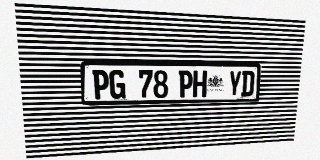7: (138, 70, 153, 99)
8: (153, 70, 168, 98)
D: (241, 71, 255, 96)
G: (109, 70, 125, 99)
H: (193, 70, 207, 97)
P: (92, 70, 109, 99), (178, 70, 193, 98)
Y: (228, 71, 242, 97)
